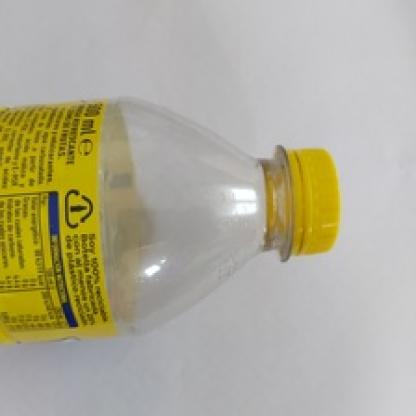plastic_bottles: (0, 89, 345, 345)
